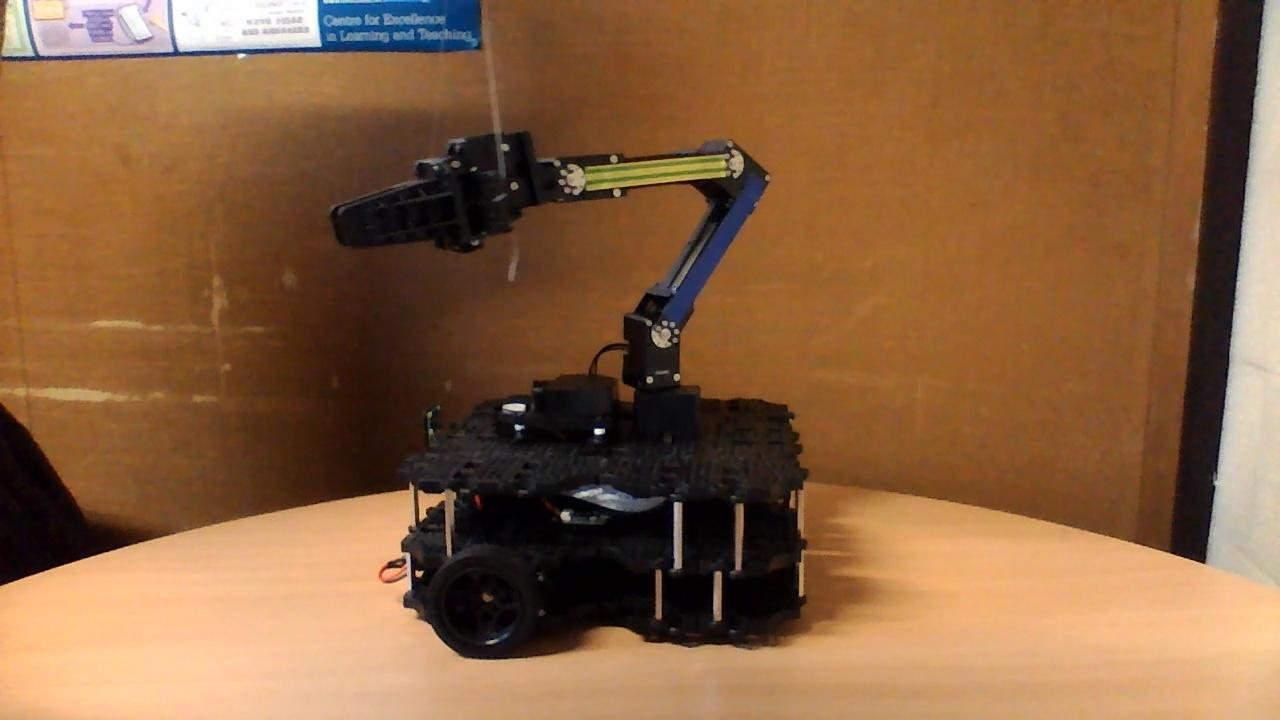Arm: (623, 172, 773, 350)
Hand: (326, 127, 560, 257)
Wrist: (551, 134, 749, 202)
base: (392, 368, 812, 662)
